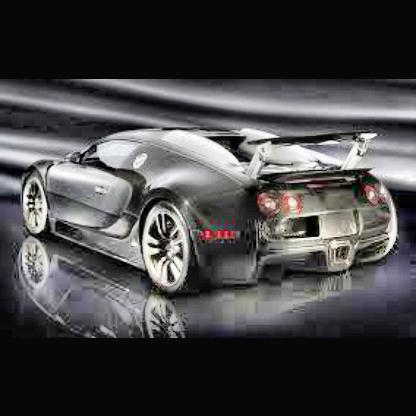Bugatti Veyron 16-4 Coupe 2009: (20, 129, 399, 294)
